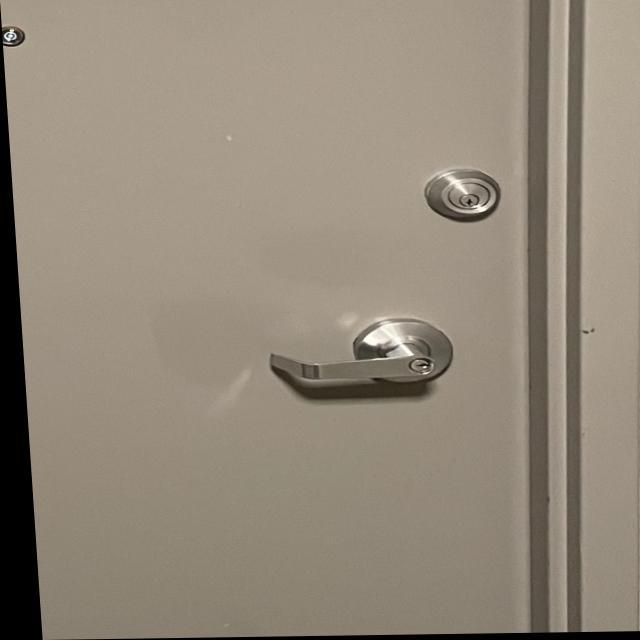door_handle: (228, 331, 463, 404)
